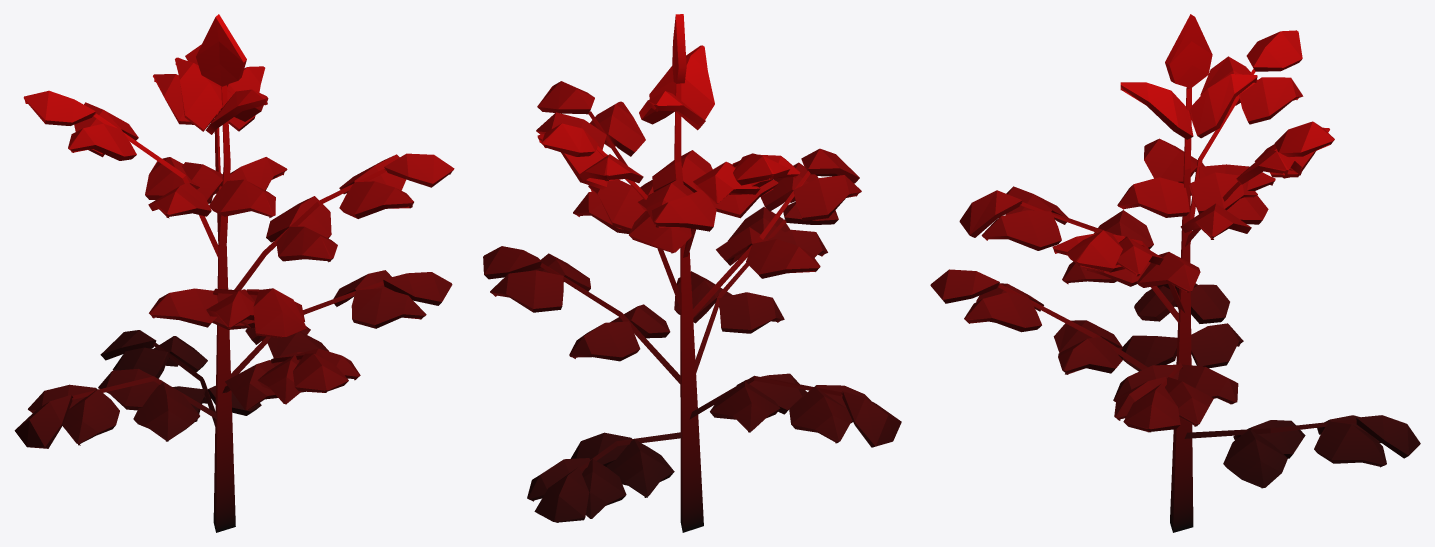
The model's file is TreeWalnutSmall04.fbx.
3 renders of one model, left to right at view 1: azimuth 30°, elevation 25°; view 2: azimuth 150°, elevation 25°; view 3: azimuth 270°, elevation 25°, orthographic. The views are drawn at different scales.
Parts seen in each view (by area): view 1: TreeWalnutSmall04_LOD0; view 2: TreeWalnutSmall04_LOD0; view 3: TreeWalnutSmall04_LOD0.
Part boxes in pixels (x1,y1,x2,y2): TreeWalnutSmall04_LOD0: [14, 14, 454, 532]; TreeWalnutSmall04_LOD0: [483, 14, 901, 532]; TreeWalnutSmall04_LOD0: [930, 14, 1420, 532].
Size of what is drawn, in the model's own units: 121 by 142 by 123.
